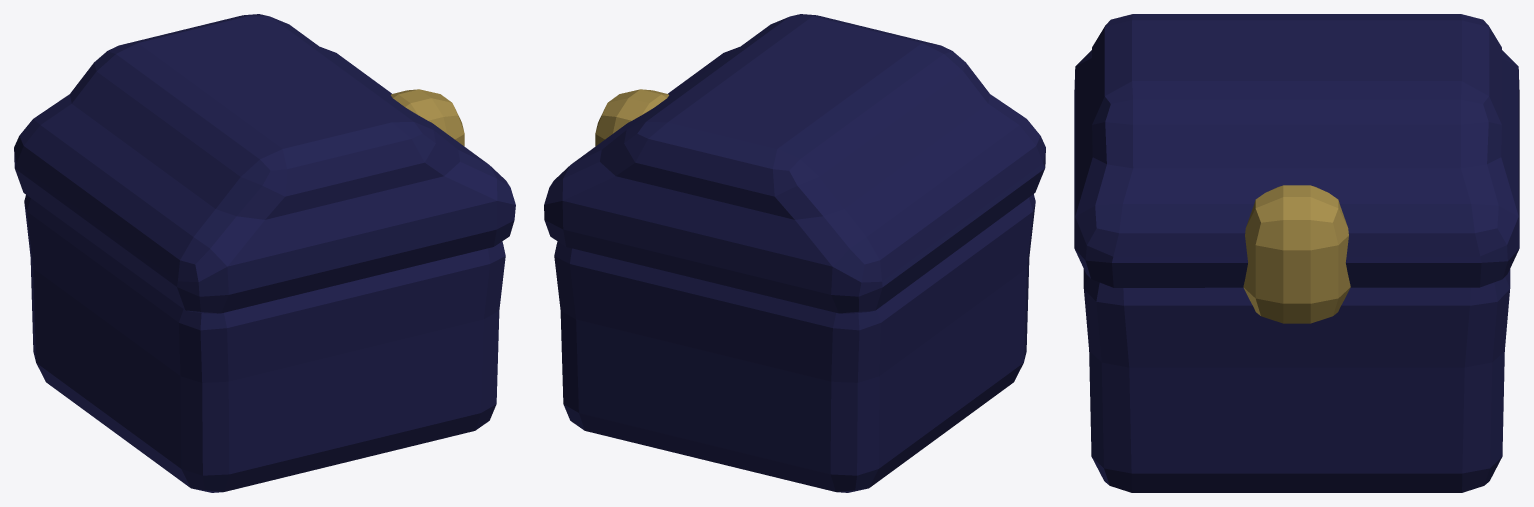
The model's file is Chest.fbx.
The picture shows the model from 3 angles, left to right: view 1: azimuth 30°, elevation 25°; view 2: azimuth 150°, elevation 25°; view 3: azimuth 270°, elevation 25°; orthographic projection. The views are drawn at different scales.
Visible parts, largest first — view 1: Chest.Top, Chest.Bottom; view 2: Chest.Top, Chest.Bottom; view 3: Chest.Top, Chest.Bottom.
Part boxes in pixels (bbox=[...]): Chest.Top: bbox=[14, 14, 515, 313]; Chest.Bottom: bbox=[24, 195, 505, 492]; Chest.Top: bbox=[544, 14, 1045, 313]; Chest.Bottom: bbox=[554, 194, 1035, 492]; Chest.Top: bbox=[1074, 14, 1519, 323]; Chest.Bottom: bbox=[1083, 269, 1510, 492].
Bounding box in the file's own units: 251 × 218 × 236.
